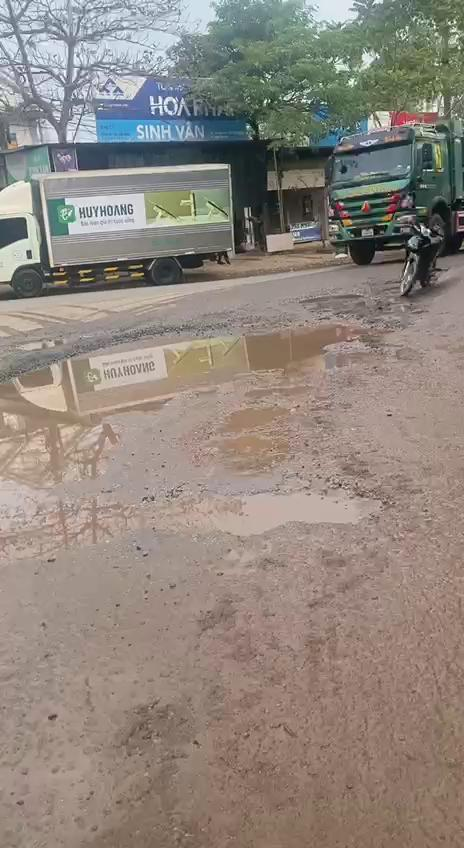pothole: (0, 298, 412, 537)
